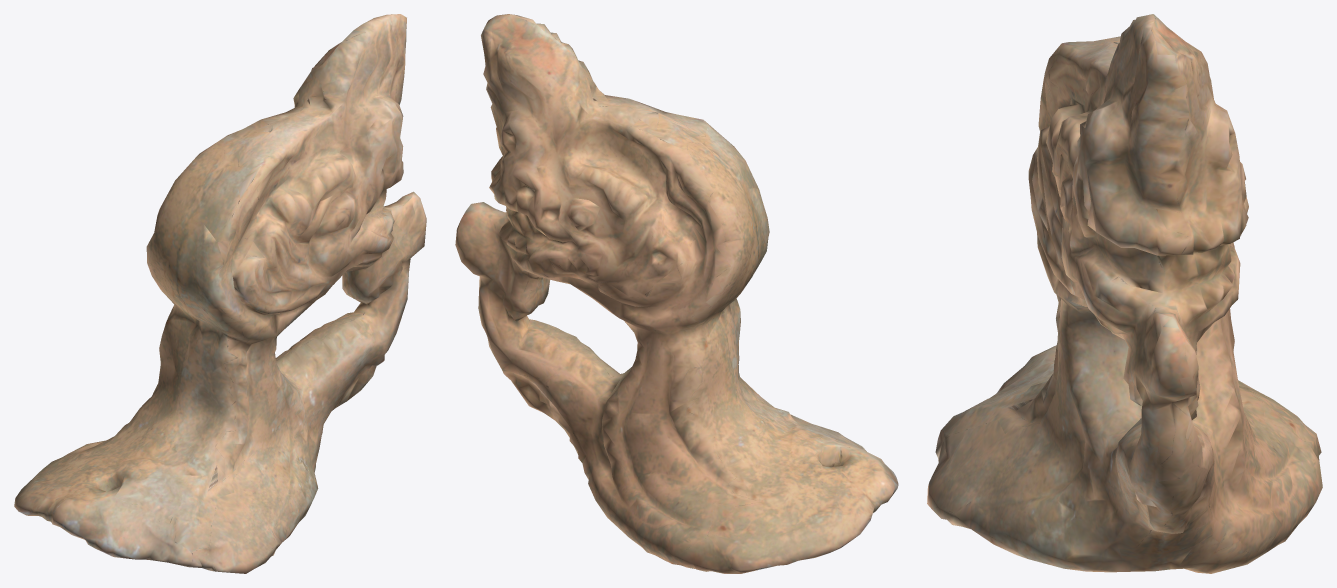
3 views of the same model, side by side, from view 1: azimuth 30°, elevation 25°; view 2: azimuth 150°, elevation 25°; view 3: azimuth 270°, elevation 25° (orthographic). The views are drawn at different scales.
Visible parts, largest first — view 1: dau_rong_01.001; view 2: dau_rong_01.001; view 3: dau_rong_01.001.
Boxes of the visible parts, left/top/right/bottom form: dau_rong_01.001: left=14, top=14, right=426, bottom=573; dau_rong_01.001: left=455, top=14, right=898, bottom=573; dau_rong_01.001: left=927, top=14, right=1322, bottom=573.
Bounding box in the file's own units: 4.84 × 5.26 × 2.94.
1 material, 1 textured.
